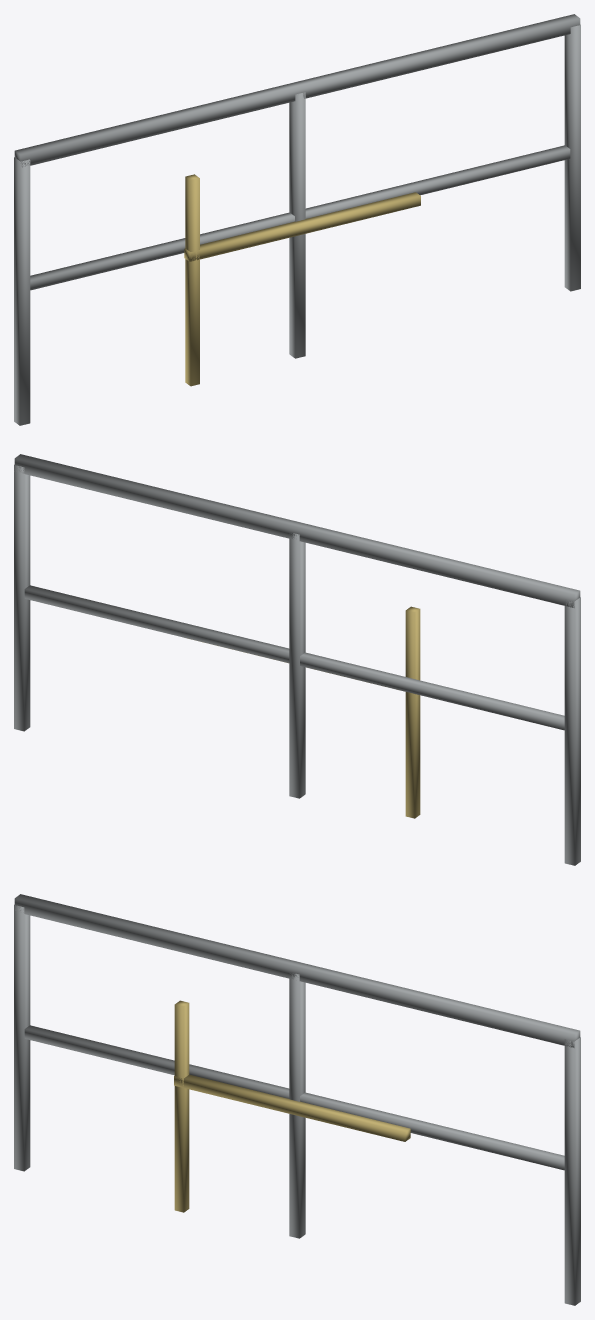
Rendered from residential_gate_l240_h110.glb.
The picture shows the model from 3 angles, top to bottom: view 1: azimuth 30°, elevation 25°; view 2: azimuth 150°, elevation 25°; view 3: azimuth 330°, elevation 25°; orthographic projection.
Parts seen in each view (by area): view 1: world; view 2: world; view 3: world.
Boxes of the visible parts, x1,y1,x2,y2 form: world: [14, 14, 580, 425]; world: [14, 454, 580, 865]; world: [14, 894, 580, 1305].
Size of the model in its own units: 2.44 by 1.13 by 0.0825.
